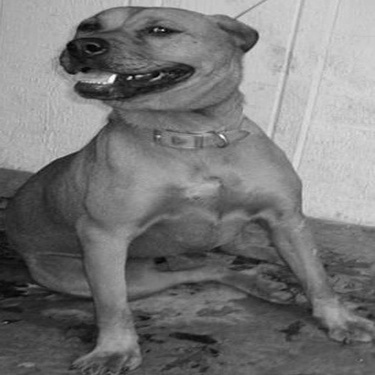dog: (5, 2, 368, 373)
